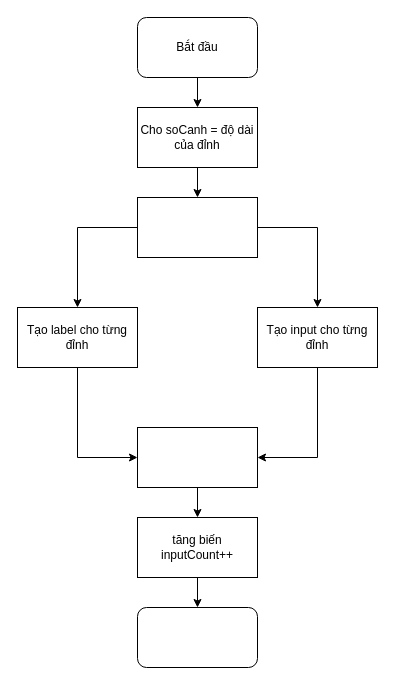
Image size: 395x685. Some labels were removed from this diagram. The shapes that lost their labels are listed below. From the top down, each one's centre as x and y in pixels, then its label:
At pixel 197 227: "Lặp qua mỗi phần tử trong mảng cacDinh".
At pixel 197 457: "Thêm label và input vào một container".
At pixel 197 637: "Kết thúc".
